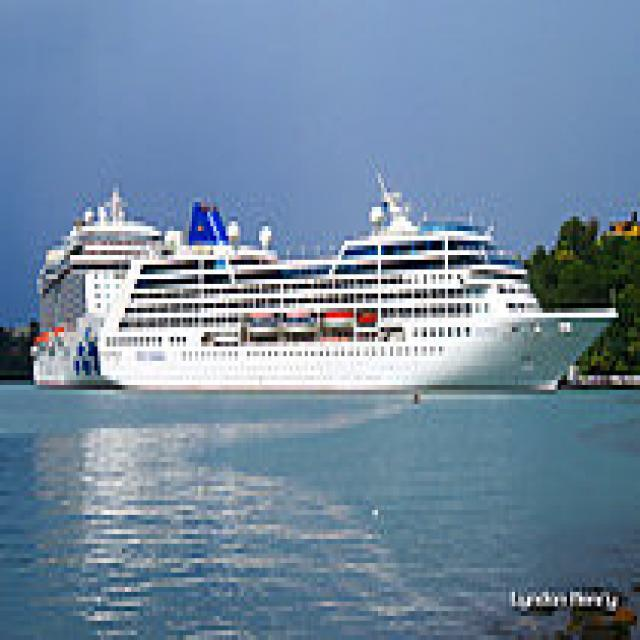Ship: (89, 150, 629, 410)
